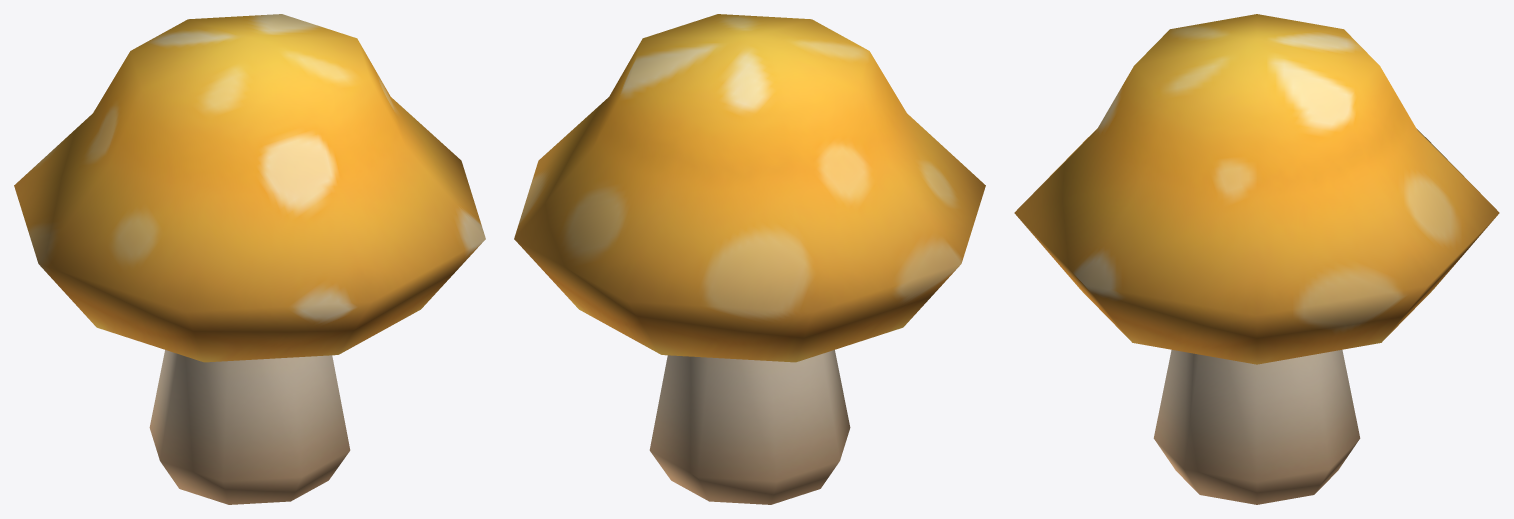
Rendered from MushroomYellow01.FBX.
3 views of the same model, side by side, from view 1: azimuth 30°, elevation 25°; view 2: azimuth 150°, elevation 25°; view 3: azimuth 270°, elevation 25° (orthographic).
Visible parts, largest first — view 1: MushroomYellow01; view 2: MushroomYellow01; view 3: MushroomYellow01.
Boxes of the visible parts, <box> form: MushroomYellow01: <box>14,14,485,504</box>; MushroomYellow01: <box>514,14,985,504</box>; MushroomYellow01: <box>1014,14,1499,504</box>.
Bounding box in the file's own units: 152 × 155 × 152.
